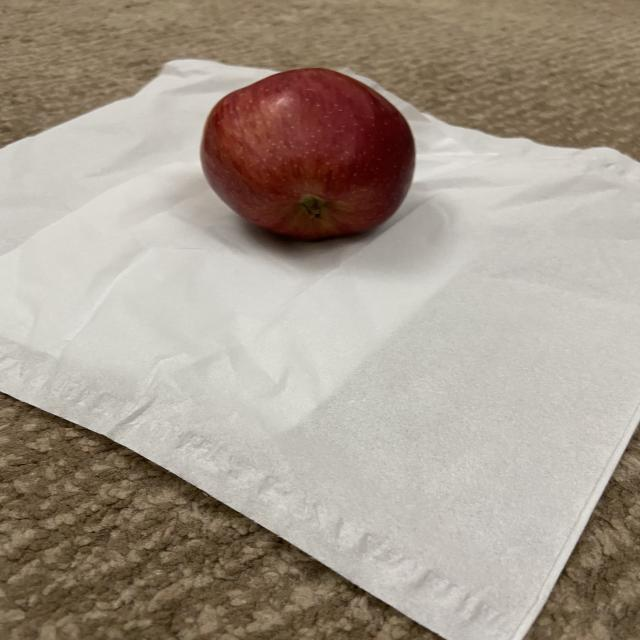apple: (200, 65, 420, 246)
